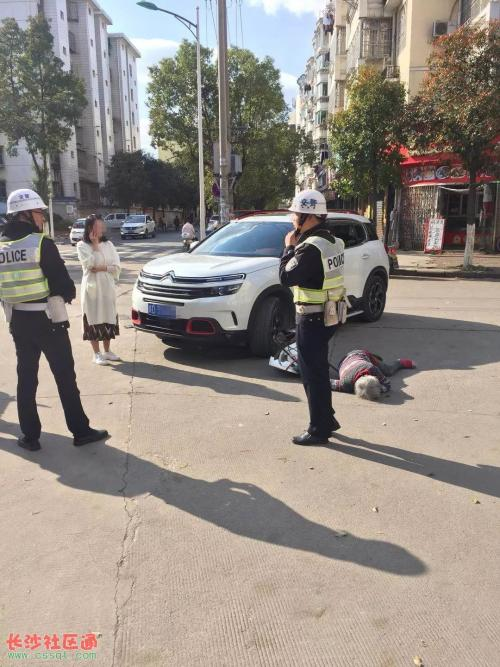fall: (325, 333, 423, 413)
